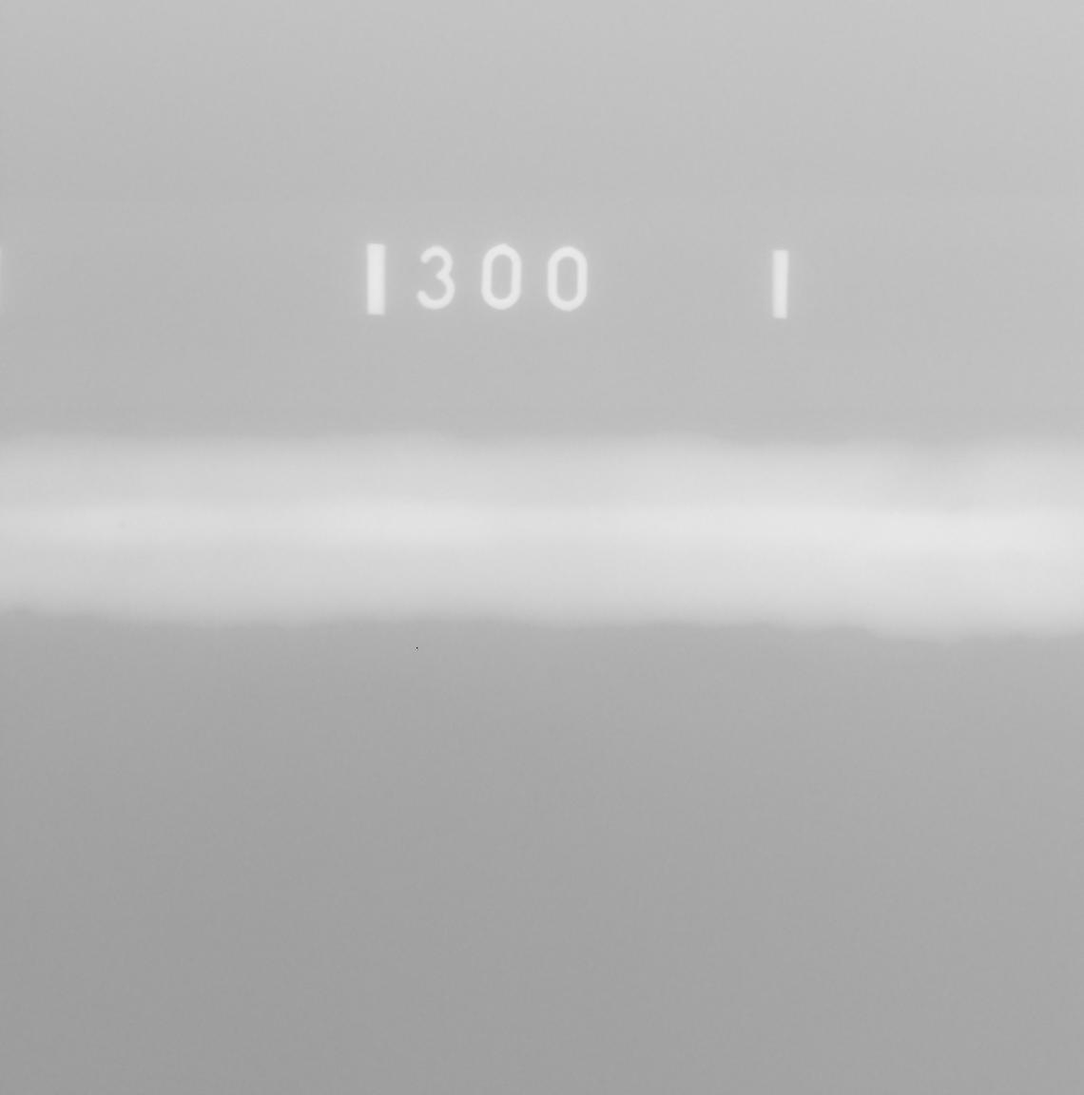Pore/Porosity: (116, 520, 129, 529)
